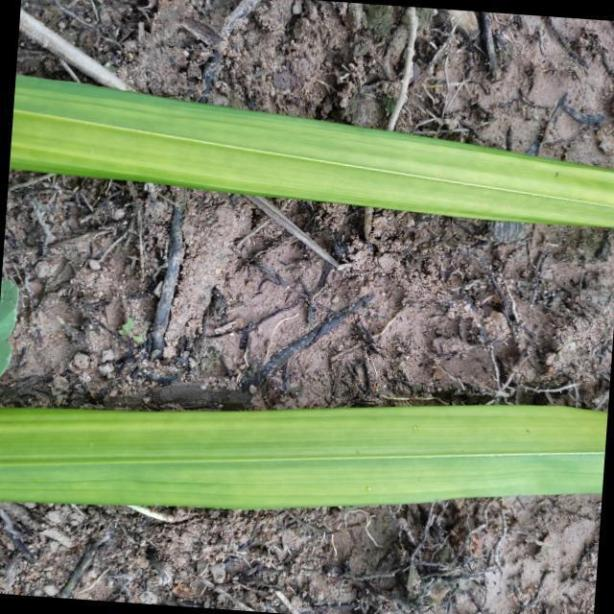nitrogen: (11, 72, 614, 229), (0, 406, 614, 504)
